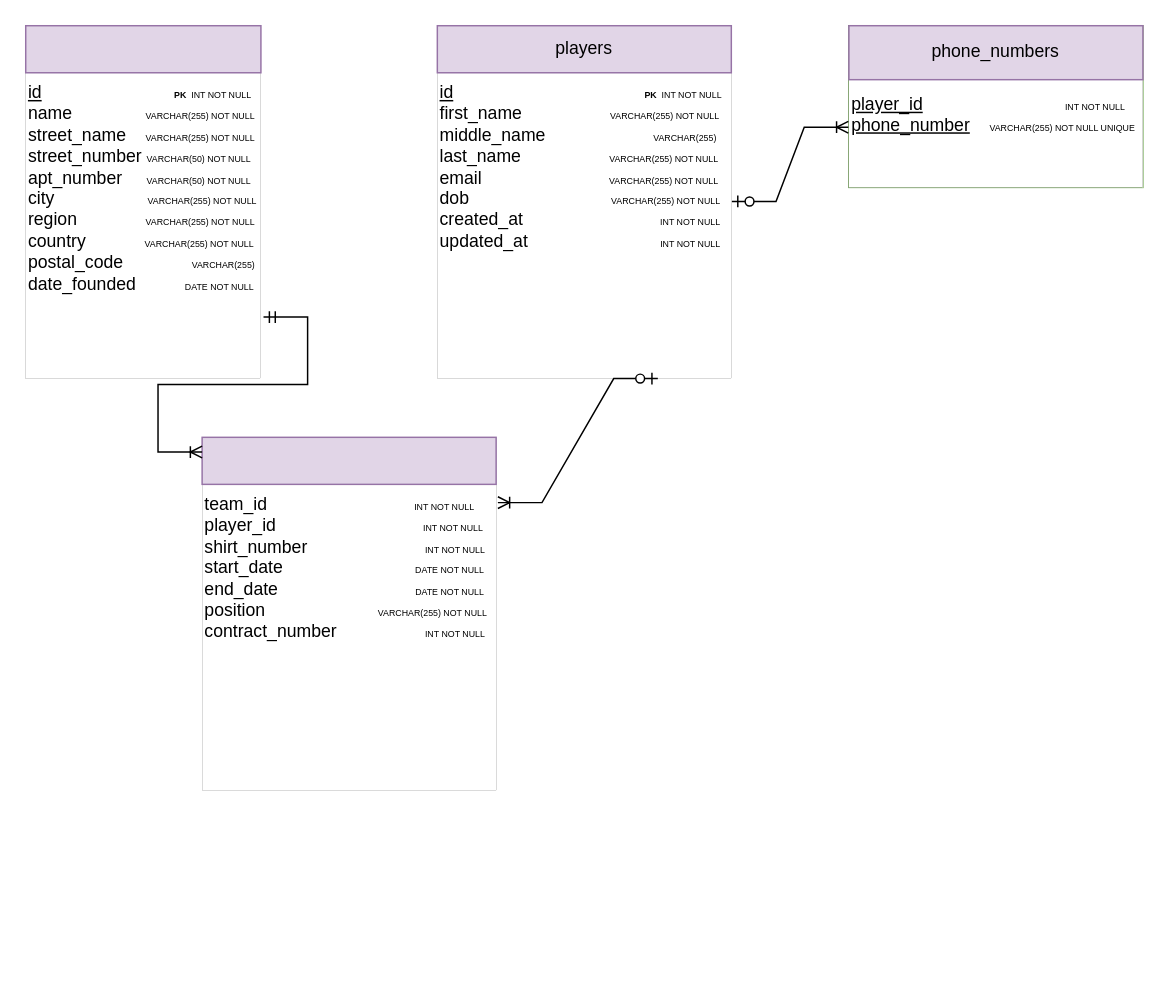
The diagram is 1169 pixels wide and 1007 high, and some of its shapes have lost their labels. Each missing label, with the centre of its shape:
team_players: pixel 348 460
teams: pixel 142 48
